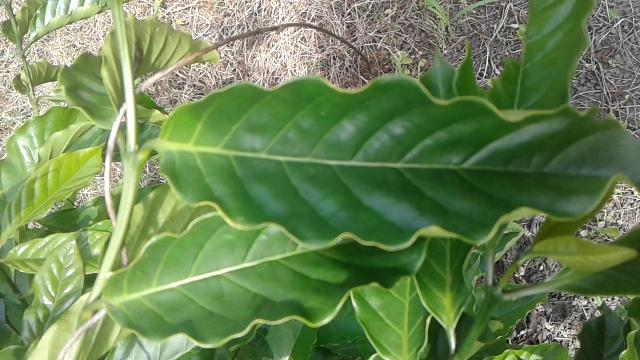healthy: (153, 73, 640, 252)
